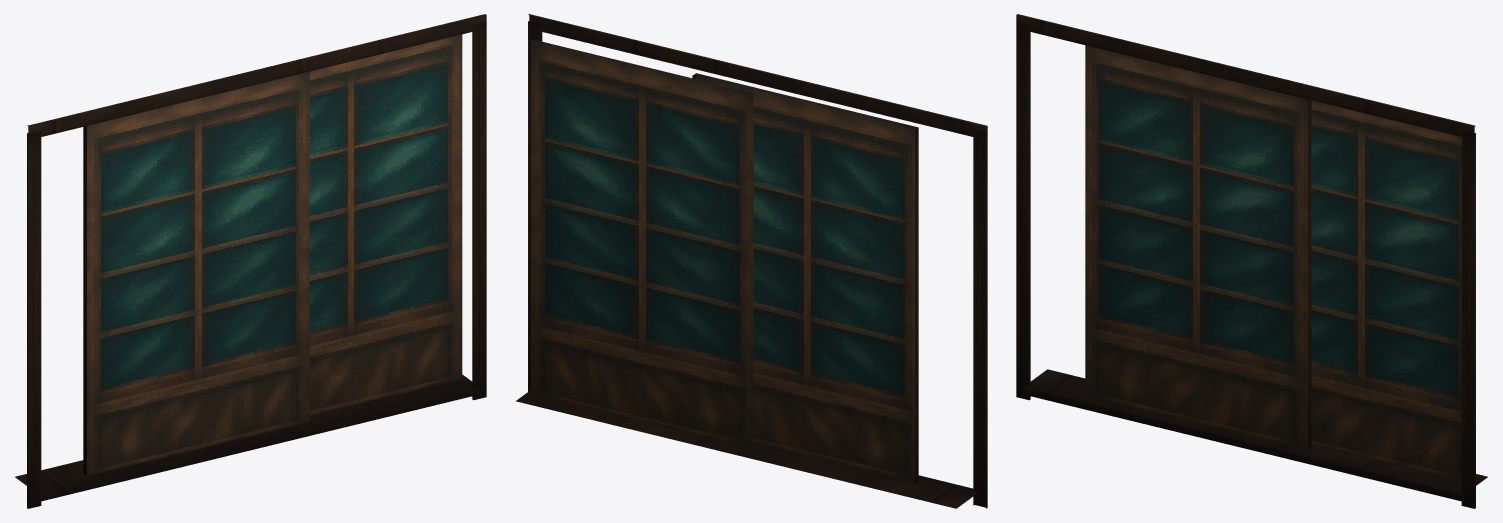
The model's file is prop_sash-20-16-2.glb.
3 renders of one model, left to right at view 1: azimuth 30°, elevation 25°; view 2: azimuth 150°, elevation 25°; view 3: azimuth 330°, elevation 25°, orthographic.
Visible parts, largest first — view 1: prop_sash-20-16-2; view 2: prop_sash-20-16-2; view 3: prop_sash-20-16-2.
Part boxes in pixels (x1,y1,x2,y2): prop_sash-20-16-2: (15,14,486,508); prop_sash-20-16-2: (516,14,987,508); prop_sash-20-16-2: (1016,14,1487,508).
Size of the model in its own units: 2.12 by 1.69 by 0.2.
Materials: 2 (2 with a texture image).
